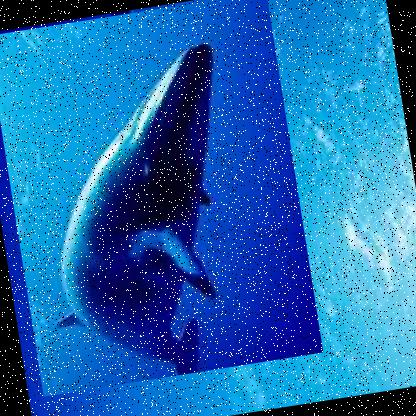blue_whale: (0, 0, 322, 397)
